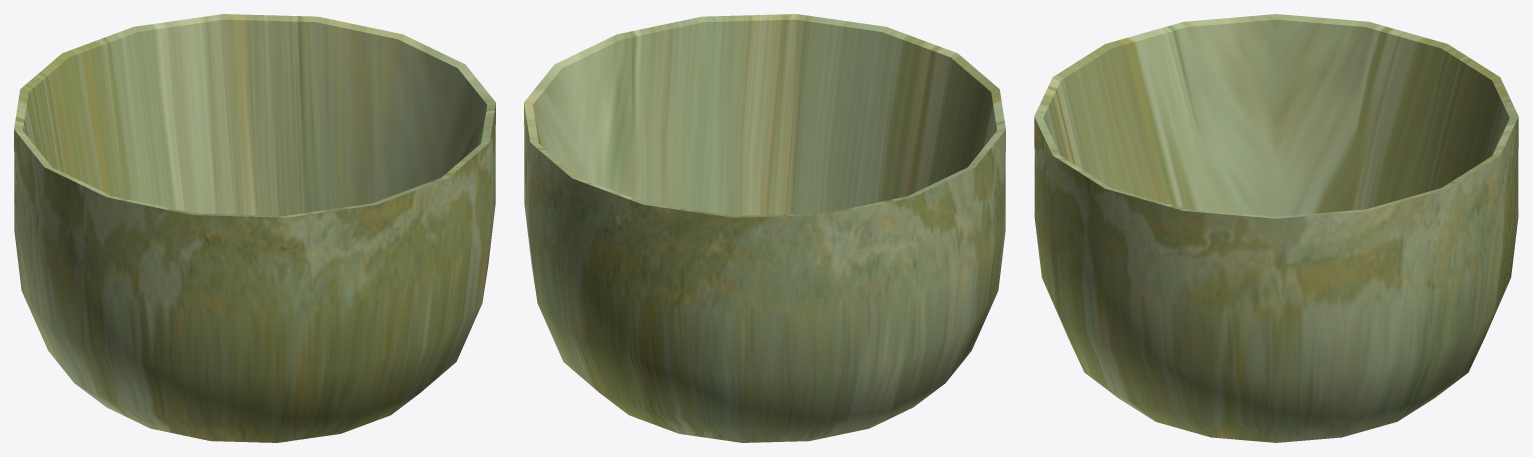
The model's file is Taza.fbx.
The picture shows the model from 3 angles, left to right: view 1: azimuth 30°, elevation 25°; view 2: azimuth 150°, elevation 25°; view 3: azimuth 270°, elevation 25°; orthographic projection.
Parts seen in each view (by area): view 1: Cylinder.005; view 2: Cylinder.005; view 3: Cylinder.005.
Part boxes in pixels (x1,y1,x2,y2): Cylinder.005: [14, 14, 495, 442]; Cylinder.005: [524, 14, 1005, 442]; Cylinder.005: [1034, 14, 1518, 442].
Bounding box in the file's own units: 33.81 × 19.59 × 33.81.
Materials: 1 (1 with a texture image).
